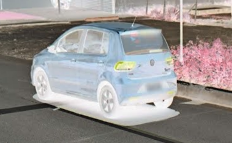car: (30, 21, 180, 121)
